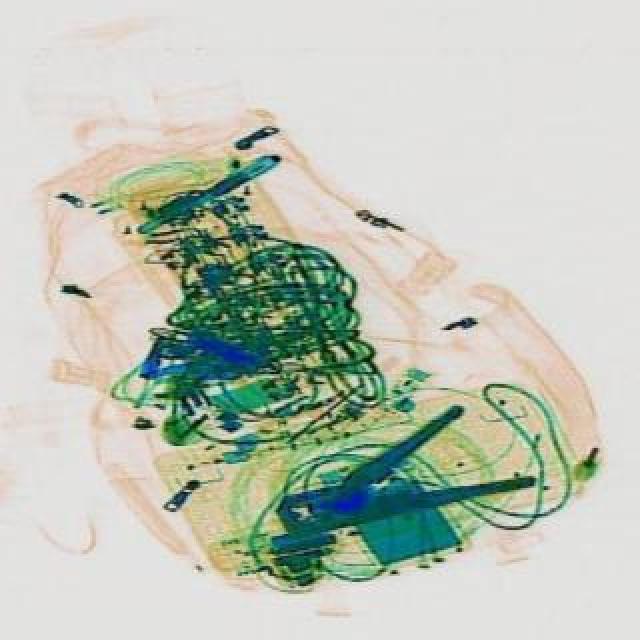wrench: (256, 390, 534, 570)
